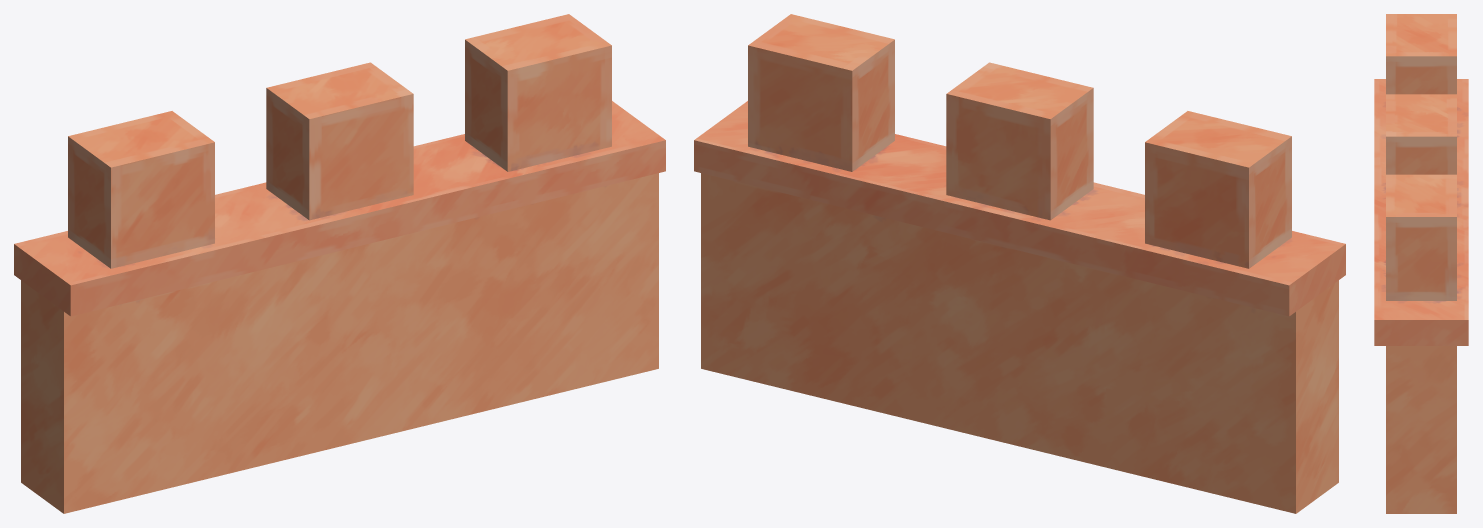
File: parapet_crenel.bundle.fbx
3 views of the same model, side by side, from view 1: azimuth 30°, elevation 25°; view 2: azimuth 150°, elevation 25°; view 3: azimuth 270°, elevation 25° (orthographic). The views are drawn at different scales.
Visible parts, largest first — view 1: parapet_crenel, parapet_crenel_low, parapet_crenel_s02, parapet_crenel_s01, parapet_crenel_s04, parapet_crenel_s03, parapet_crenel_s00; view 2: parapet_crenel, parapet_crenel_low, parapet_crenel_s02, parapet_crenel_s03, parapet_crenel_s01, parapet_crenel_s04, parapet_crenel_s00; view 3: parapet_crenel, parapet_crenel_low, parapet_crenel_s03, parapet_crenel_s00, parapet_crenel_s02, parapet_crenel_s01.
Boxes of the visible parts, box(x1,y1,x2,y2) form: parapet_crenel: box(14, 17, 665, 513); parapet_crenel_low: box(68, 14, 611, 268); parapet_crenel_s02: box(16, 78, 382, 426); parapet_crenel_s01: box(228, 71, 475, 469); parapet_crenel_s04: box(21, 337, 240, 512); parapet_crenel_s03: box(438, 137, 665, 412); parapet_crenel_s00: box(346, 47, 665, 161); parapet_crenel: box(694, 18, 1345, 513); parapet_crenel_low: box(748, 14, 1291, 268); parapet_crenel_s02: box(981, 71, 1345, 417); parapet_crenel_s03: box(701, 134, 945, 410); parapet_crenel_s01: box(878, 70, 1077, 442); parapet_crenel_s04: box(1189, 342, 1338, 513); parapet_crenel_s00: box(694, 47, 1010, 177); parapet_crenel: box(1374, 16, 1468, 513); parapet_crenel_low: box(1386, 14, 1456, 300); parapet_crenel_s03: box(1374, 233, 1468, 513); parapet_crenel_s00: box(1374, 125, 1468, 350); parapet_crenel_s02: box(1374, 79, 1468, 186); parapet_crenel_s01: box(1374, 124, 1468, 233).
Bounding box in the file's own units: 8 × 4.3 × 1.32.
Materials: 1 (1 with a texture image).
